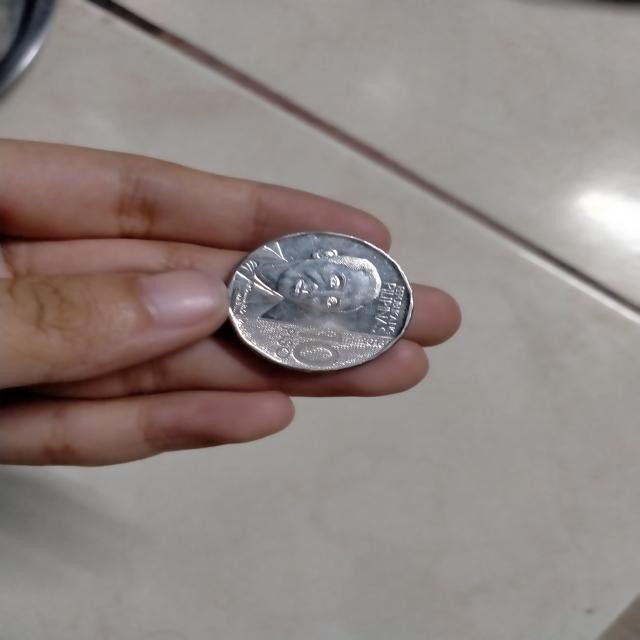10_New_Front: (247, 240, 378, 369)
